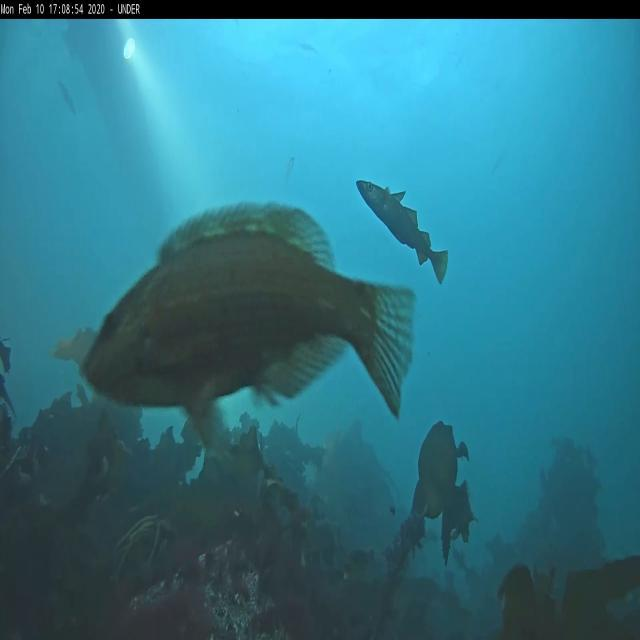fish: (82, 200, 418, 450), (356, 180, 448, 284), (58, 78, 76, 115), (284, 155, 295, 188)
